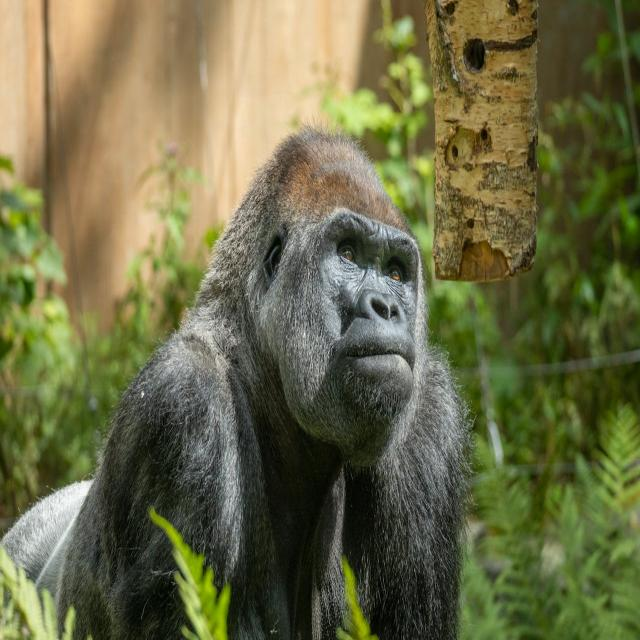Gorilla: (0, 122, 468, 640)
